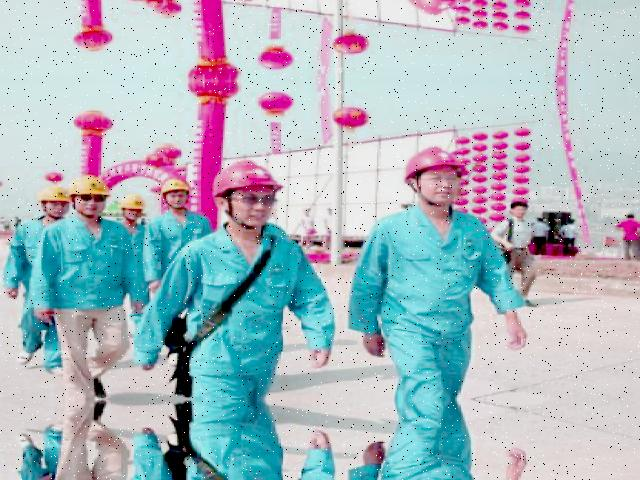Helmet: (208, 155, 280, 204), (399, 140, 464, 191), (62, 170, 112, 204), (31, 180, 73, 206), (154, 175, 194, 202), (112, 191, 146, 216)
